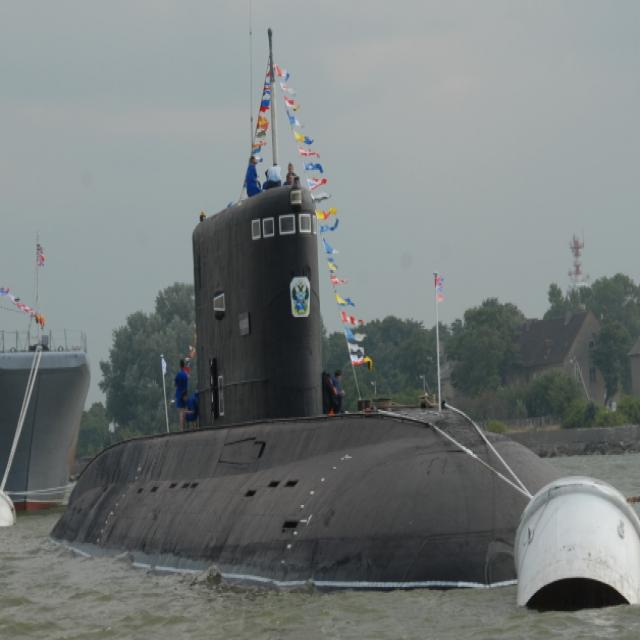submarine: (60, 179, 580, 575)
